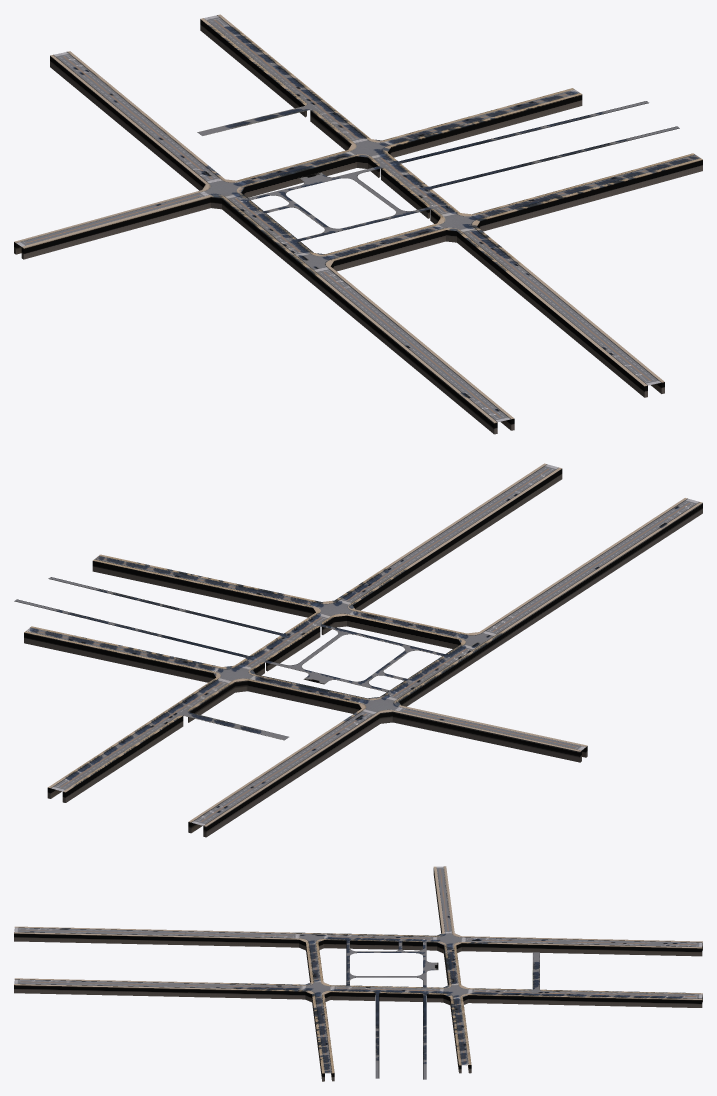
The picture shows the model from 3 angles, top to bottom: view 1: azimuth 30°, elevation 25°; view 2: azimuth 150°, elevation 25°; view 3: azimuth 270°, elevation 25°; orthographic projection. The views are drawn at different scales.
Parts seen in each view (by area): view 1: 对象008, 对象006, lu6, sc2125, lu5, 对象005, lu1, lu3, lu4, 对象014, 对象002, lu2 (+6 smaller); view 2: 对象014, 对象008, lu6, 对象006, sc2125, lu5, lu1, 对象001, lu3, 对象004, 对象013, lu4 (+5 smaller); view 3: 对象006, 对象005, 对象013, lu6, 对象001, lu5, lu1, lu3, lu4, sc2125, lu2, 对象008 (+7 smaller).
Part boxes in pixels (bbox=[...]): 对象008: bbox=[21, 194, 497, 434]; 对象006: bbox=[325, 228, 647, 430]; lu6: bbox=[276, 191, 567, 330]; sc2125: bbox=[17, 15, 699, 421]; lu5: bbox=[16, 202, 660, 421]; 对象005: bbox=[472, 158, 702, 393]; lu1: bbox=[54, 15, 327, 146]; lu3: bbox=[314, 107, 527, 209]; lu4: bbox=[165, 143, 339, 238]; 对象014: bbox=[14, 55, 210, 254]; 对象002: bbox=[383, 93, 582, 161]; lu2: bbox=[466, 89, 700, 194]; 对象014: bbox=[203, 709, 581, 837]; 对象008: bbox=[394, 502, 702, 757]; lu6: bbox=[226, 545, 575, 663]; 对象006: bbox=[348, 467, 687, 635]; sc2125: bbox=[14, 465, 699, 825]; lu5: bbox=[423, 464, 699, 750]; lu1: bbox=[51, 707, 326, 825]; 对象001: bbox=[24, 631, 220, 798]; lu3: bbox=[134, 611, 339, 710]; 对象004: bbox=[92, 559, 320, 633]; 对象013: bbox=[188, 678, 366, 833]; lu4: bbox=[284, 652, 451, 744]; 对象006: bbox=[14, 932, 313, 985]; 对象005: bbox=[14, 984, 324, 1081]; 对象013: bbox=[453, 942, 702, 990]; lu6: bbox=[186, 931, 358, 1026]; 对象001: bbox=[460, 994, 702, 1073]; lu5: bbox=[14, 866, 450, 987]; lu1: bbox=[530, 939, 702, 998]; lu3: bbox=[358, 973, 530, 1026]; lu4: bbox=[358, 919, 530, 972]; sc2125: bbox=[15, 867, 701, 1079]; lu2: bbox=[319, 1026, 468, 1079]; 对象008: bbox=[14, 866, 444, 936].
Size of the model in its own units: 562 by 10.04 by 768.
23 materials, 23 textured.
